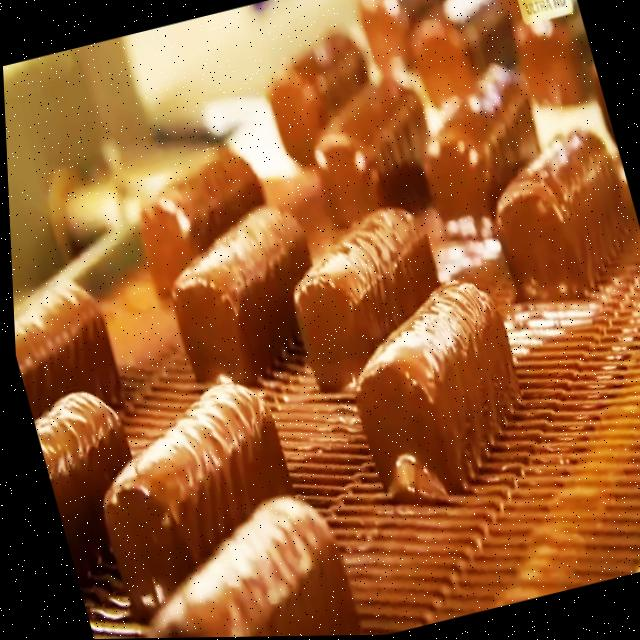Choco: (66, 362, 313, 617), (322, 265, 545, 518), (97, 481, 357, 639), (266, 194, 460, 395), (146, 193, 337, 397), (469, 118, 640, 315), (402, 48, 561, 244), (116, 138, 284, 300), (293, 73, 450, 233), (25, 376, 152, 562), (249, 17, 389, 175), (9, 268, 126, 426), (392, 0, 531, 110), (348, 0, 470, 83), (510, 17, 590, 116)
